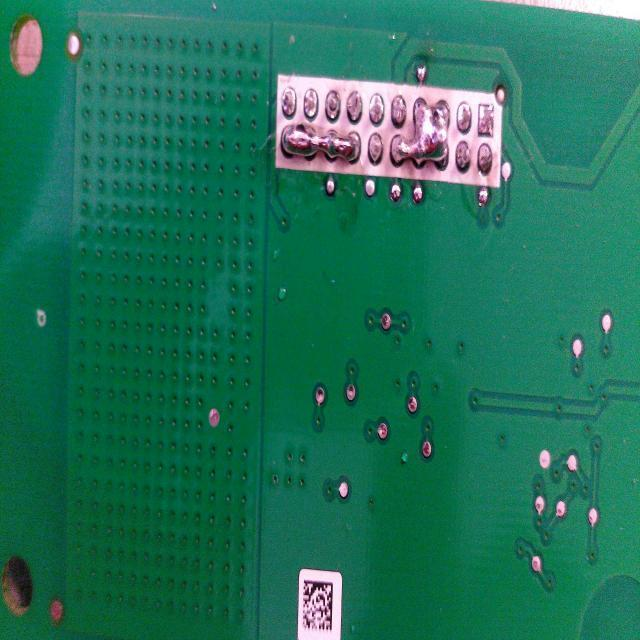Soldering shorted: (392, 86, 448, 171), (276, 123, 364, 175)
